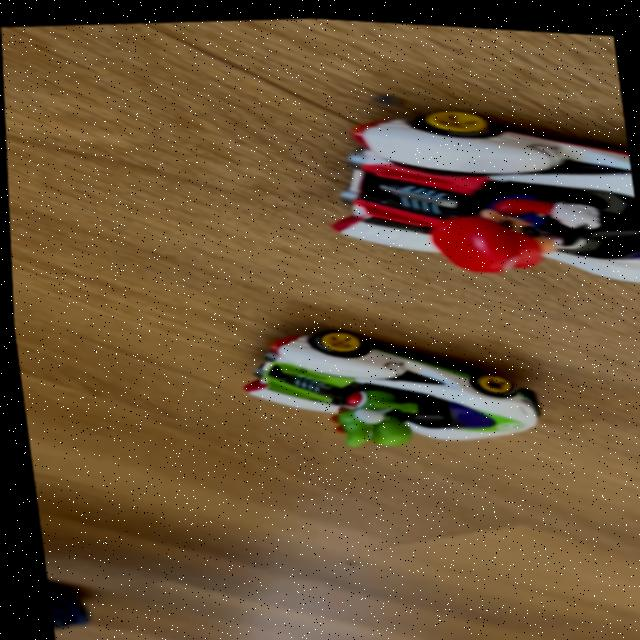mario: (309, 84, 640, 322)
yoshi: (228, 302, 562, 480)
